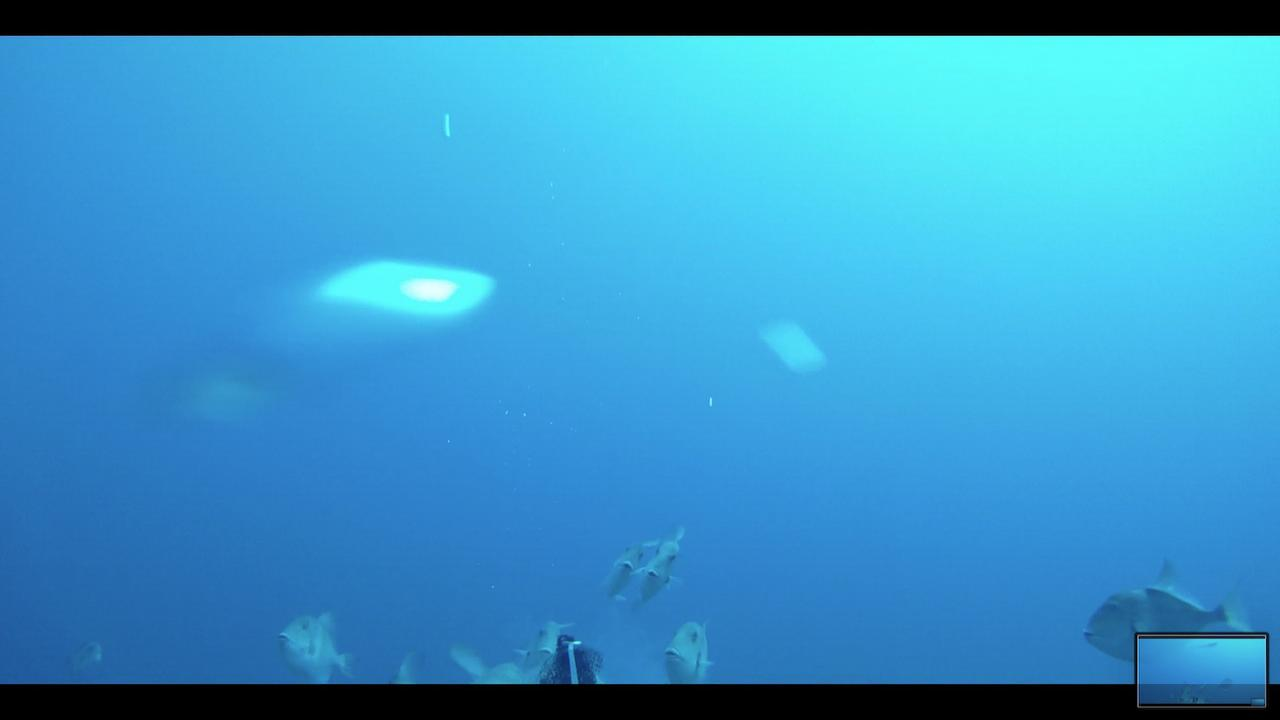balistes: (272, 608, 358, 682), (503, 610, 570, 685), (631, 529, 687, 606), (660, 613, 723, 677), (604, 536, 657, 596)
